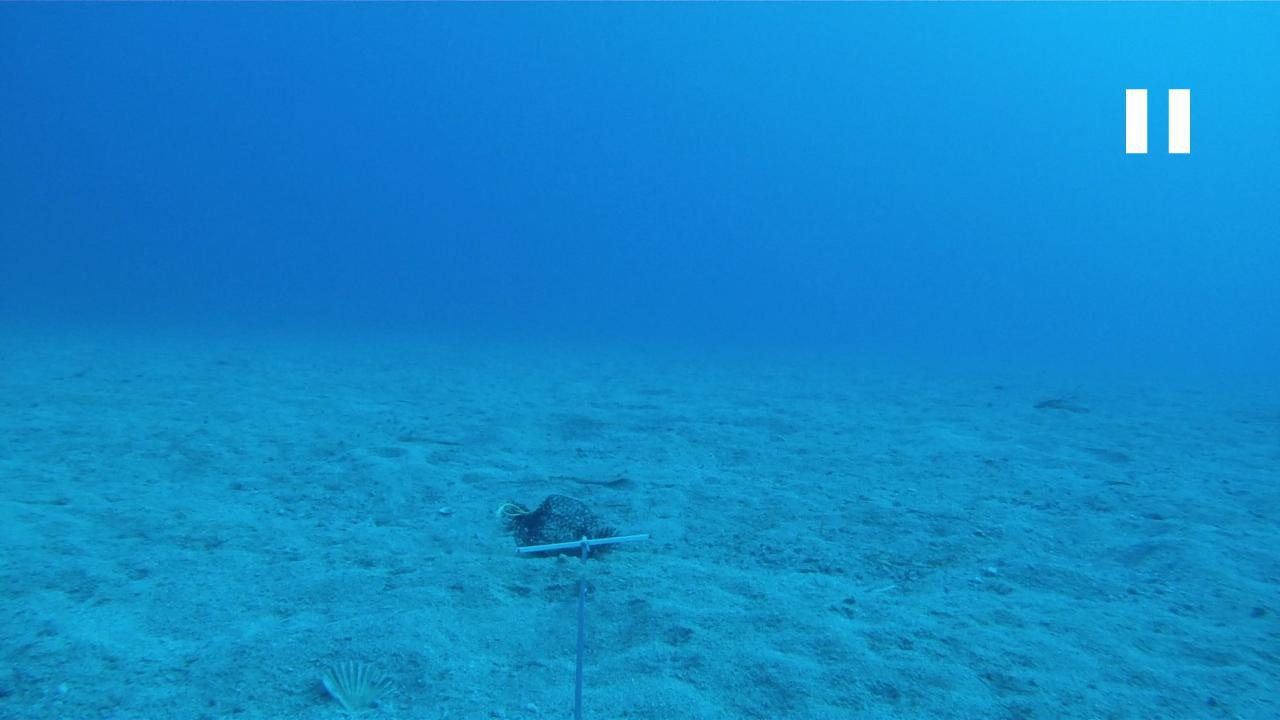bothus: (542, 462, 631, 484)
